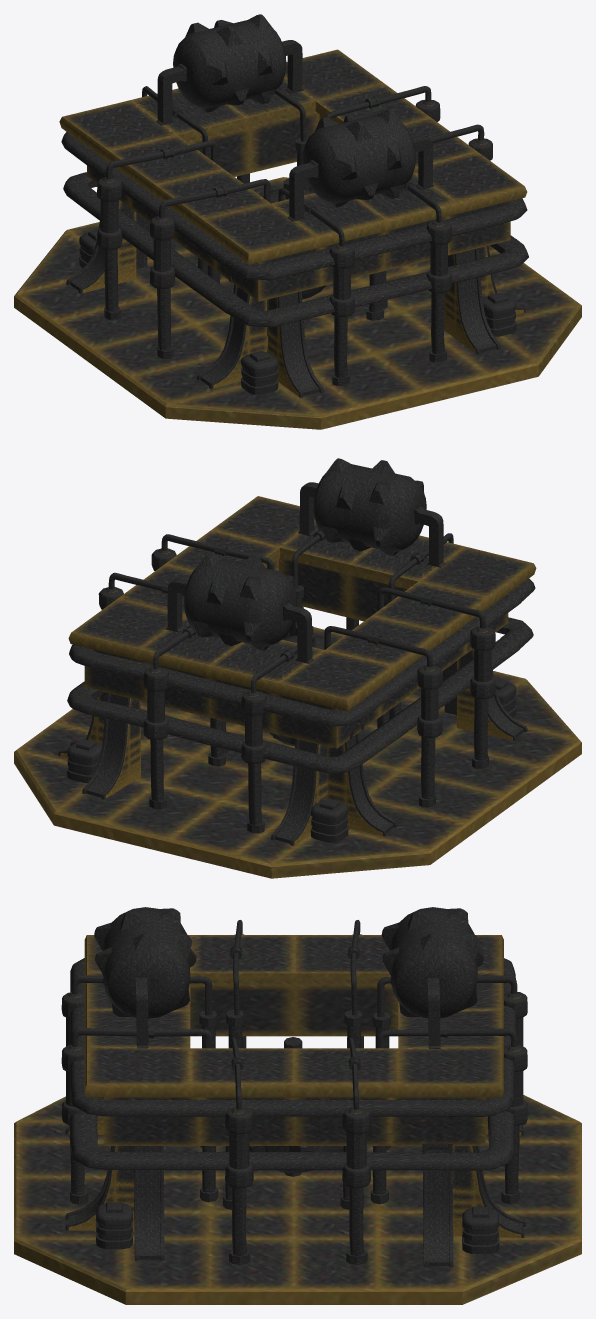
File: Grinder_Yellow.fbx
3 renders of one model, top to bottom at view 1: azimuth 30°, elevation 25°; view 2: azimuth 150°, elevation 25°; view 3: azimuth 270°, elevation 25°, orthographic. The views are drawn at different scales.
Visible parts, largest first — view 1: Grinder_Yellow; view 2: Grinder_Yellow; view 3: Grinder_Yellow.
Boxes of the visible parts, left/top/right/bottom form: Grinder_Yellow: left=14, top=14, right=581, bottom=429; Grinder_Yellow: left=14, top=458, right=581, bottom=878; Grinder_Yellow: left=14, top=907, right=581, bottom=1304.
Size of the model in its own units: 16.61 by 9.42 by 17.66.
